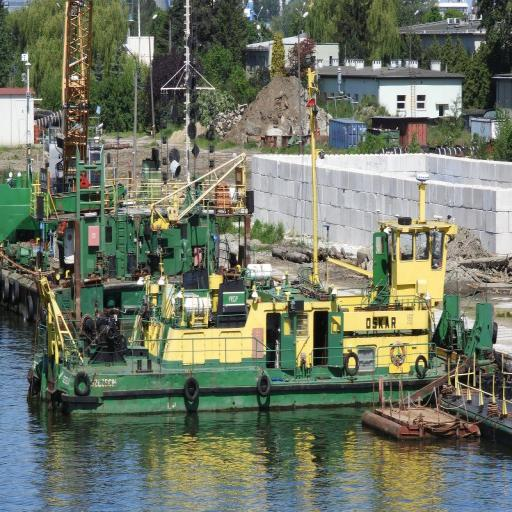tugboat: (26, 171, 499, 431)
